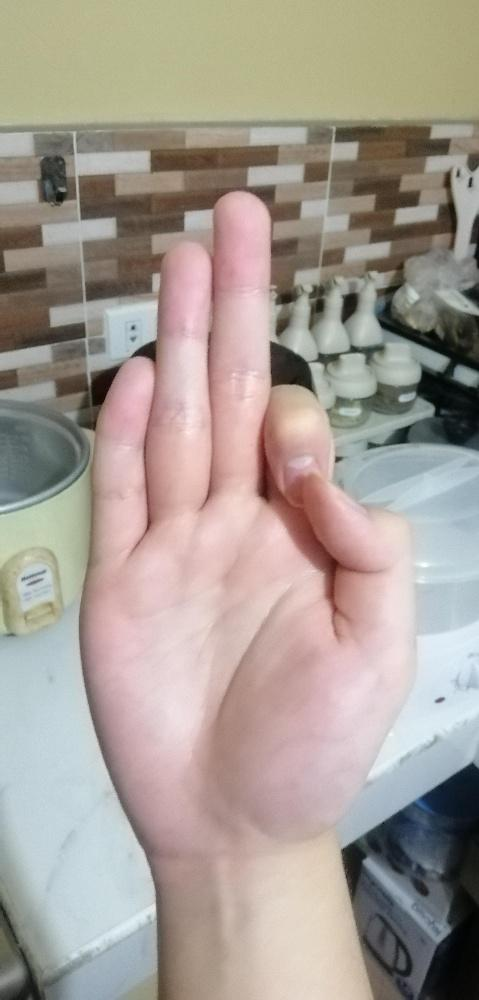f: (78, 191, 415, 840)
